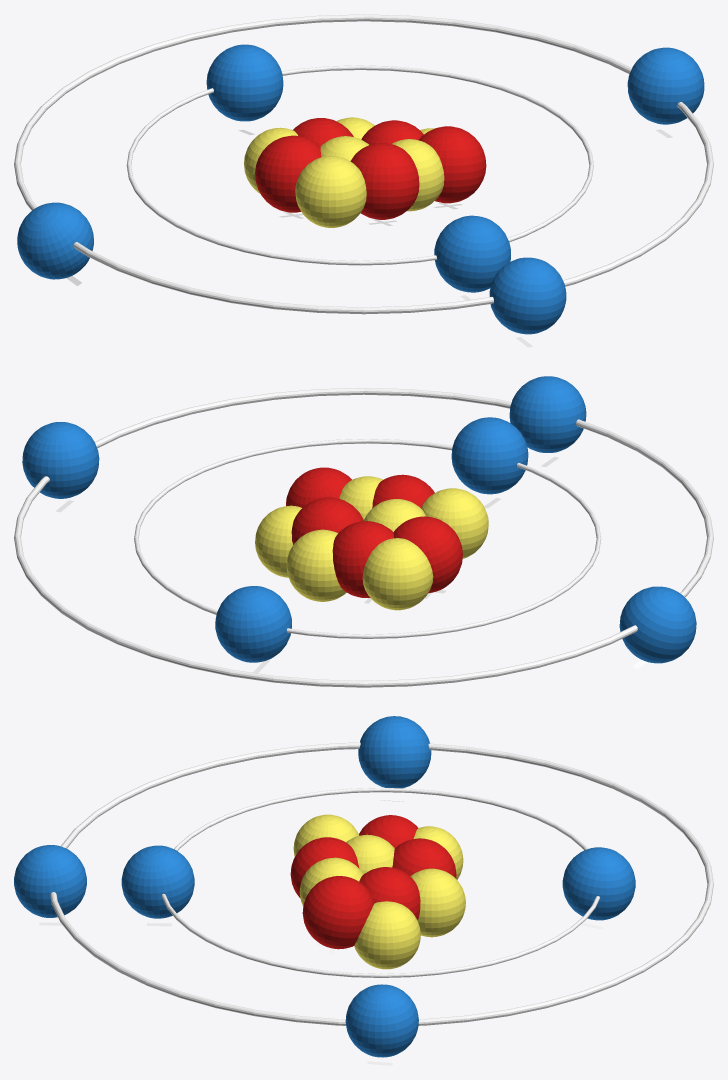
3 renders of one model, top to bottom at view 1: azimuth 30°, elevation 25°; view 2: azimuth 150°, elevation 25°; view 3: azimuth 270°, elevation 25°, orthographic. The views are drawn at different scales.
Visible parts, largest first — view 1: Torus.002, Torus.001, -.001, -.005, -.002, -.003, -, Sphere.003, f.002, f.003, f.004, Sphere.001 (+4 smaller); view 2: Torus.002, Torus.001, -.001, -, -.003, -.002, -.005, Sphere.006, Sphere, f.003, f, Sphere.003 (+6 smaller); view 3: Torus.002, Torus.001, -.002, -.003, -, -.001, -.005, f.004, Sphere.004, Sphere, f.001, f (+6 smaller).
Part boxes in pixels (<box>): Torus.002: <box>14,14,713,314</box>; Torus.001: <box>126,65,593,265</box>; -.001: <box>206,44,283,121</box>; -.005: <box>489,257,566,334</box>; -.002: <box>627,47,704,124</box>; -.003: <box>17,202,93,279</box>; -: <box>434,215,510,292</box>; Sphere.003: <box>295,156,366,227</box>; f.002: <box>350,143,419,219</box>; f.003: <box>255,135,321,212</box>; f.004: <box>419,126,486,203</box>; Sphere.001: <box>392,139,444,211</box>; Torus.002: <box>14,388,713,687</box>; Torus.001: <box>134,439,601,638</box>; -.001: <box>215,586,291,662</box>; -: <box>451,417,528,494</box>; -.003: <box>619,586,696,663</box>; -.002: <box>22,422,99,498</box>; -.005: <box>509,376,586,452</box>; Sphere.006: <box>362,538,433,610</box>; Sphere: <box>286,529,346,601</box>; f.003: <box>393,516,462,593</box>; f: <box>332,521,393,597</box>; Sphere.003: <box>421,488,488,558</box>; Torus.002: <box>50,742,713,1025</box>; Torus.001: <box>161,787,599,977</box>; -.002: <box>345,984,418,1057</box>; -.003: <box>358,716,431,788</box>; -: <box>121,845,194,918</box>; -.001: <box>562,847,635,920</box>; -.005: <box>14,845,86,917</box>; f.004: <box>302,876,374,949</box>; Sphere.004: <box>354,901,420,969</box>; Sphere: <box>410,868,465,937</box>; f.001: <box>359,867,420,920</box>; f: <box>392,838,456,878</box>.
Bounding box in the file's own units: 4.68 × 0.6257 × 4.45.
